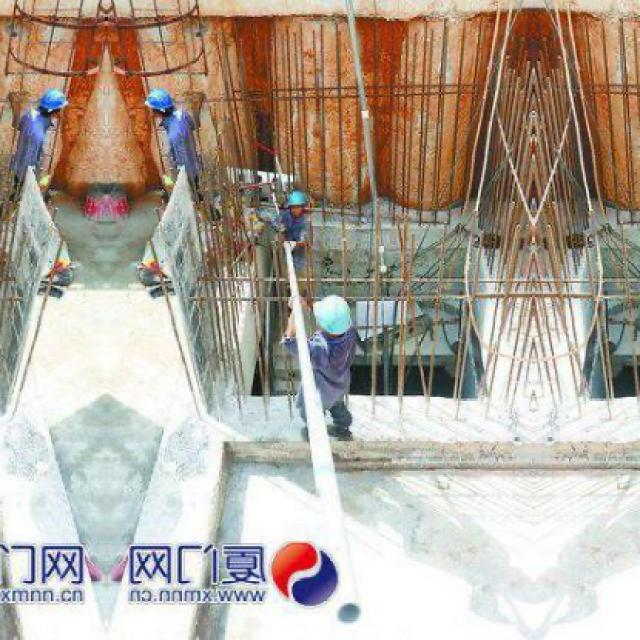helmet: (315, 288, 356, 362), (145, 85, 176, 123), (37, 85, 68, 123), (287, 191, 305, 218)
